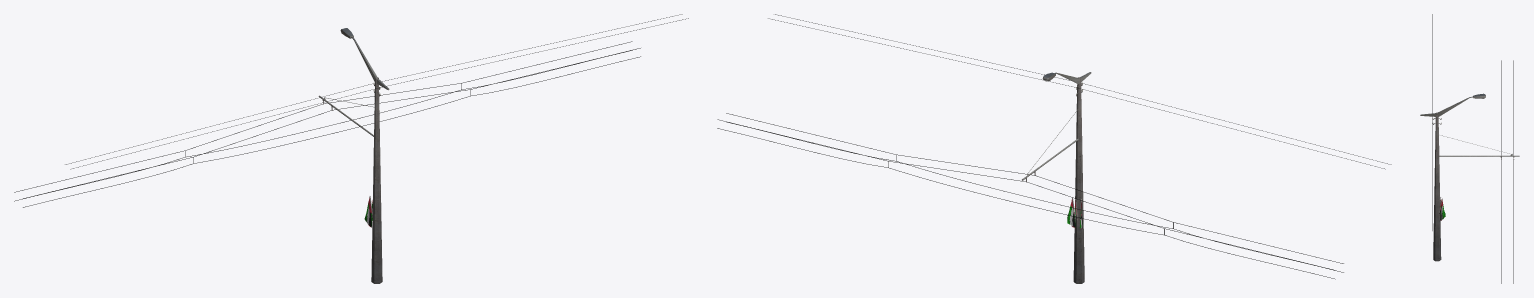
File: Pillar1.FBX
3 views of the same model, side by side, from view 1: azimuth 30°, elevation 25°; view 2: azimuth 150°, elevation 25°; view 3: azimuth 270°, elevation 25° (orthographic). The views are drawn at different scales.
Parts seen in each view (by area): view 1: cabels, Pillar1; view 2: cabels, Pillar1; view 3: Pillar1, cabels.
Boxes of the visible parts, x1,y1,x2,y2 form: cabels: (14, 14, 688, 207); Pillar1: (318, 28, 389, 283); cabels: (717, 14, 1391, 279); Pillar1: (1022, 72, 1091, 283); Pillar1: (1420, 93, 1519, 261); cabels: (1432, 14, 1513, 283).
Bounding box in the file's own units: 30.18 × 5.83 × 10.69.
